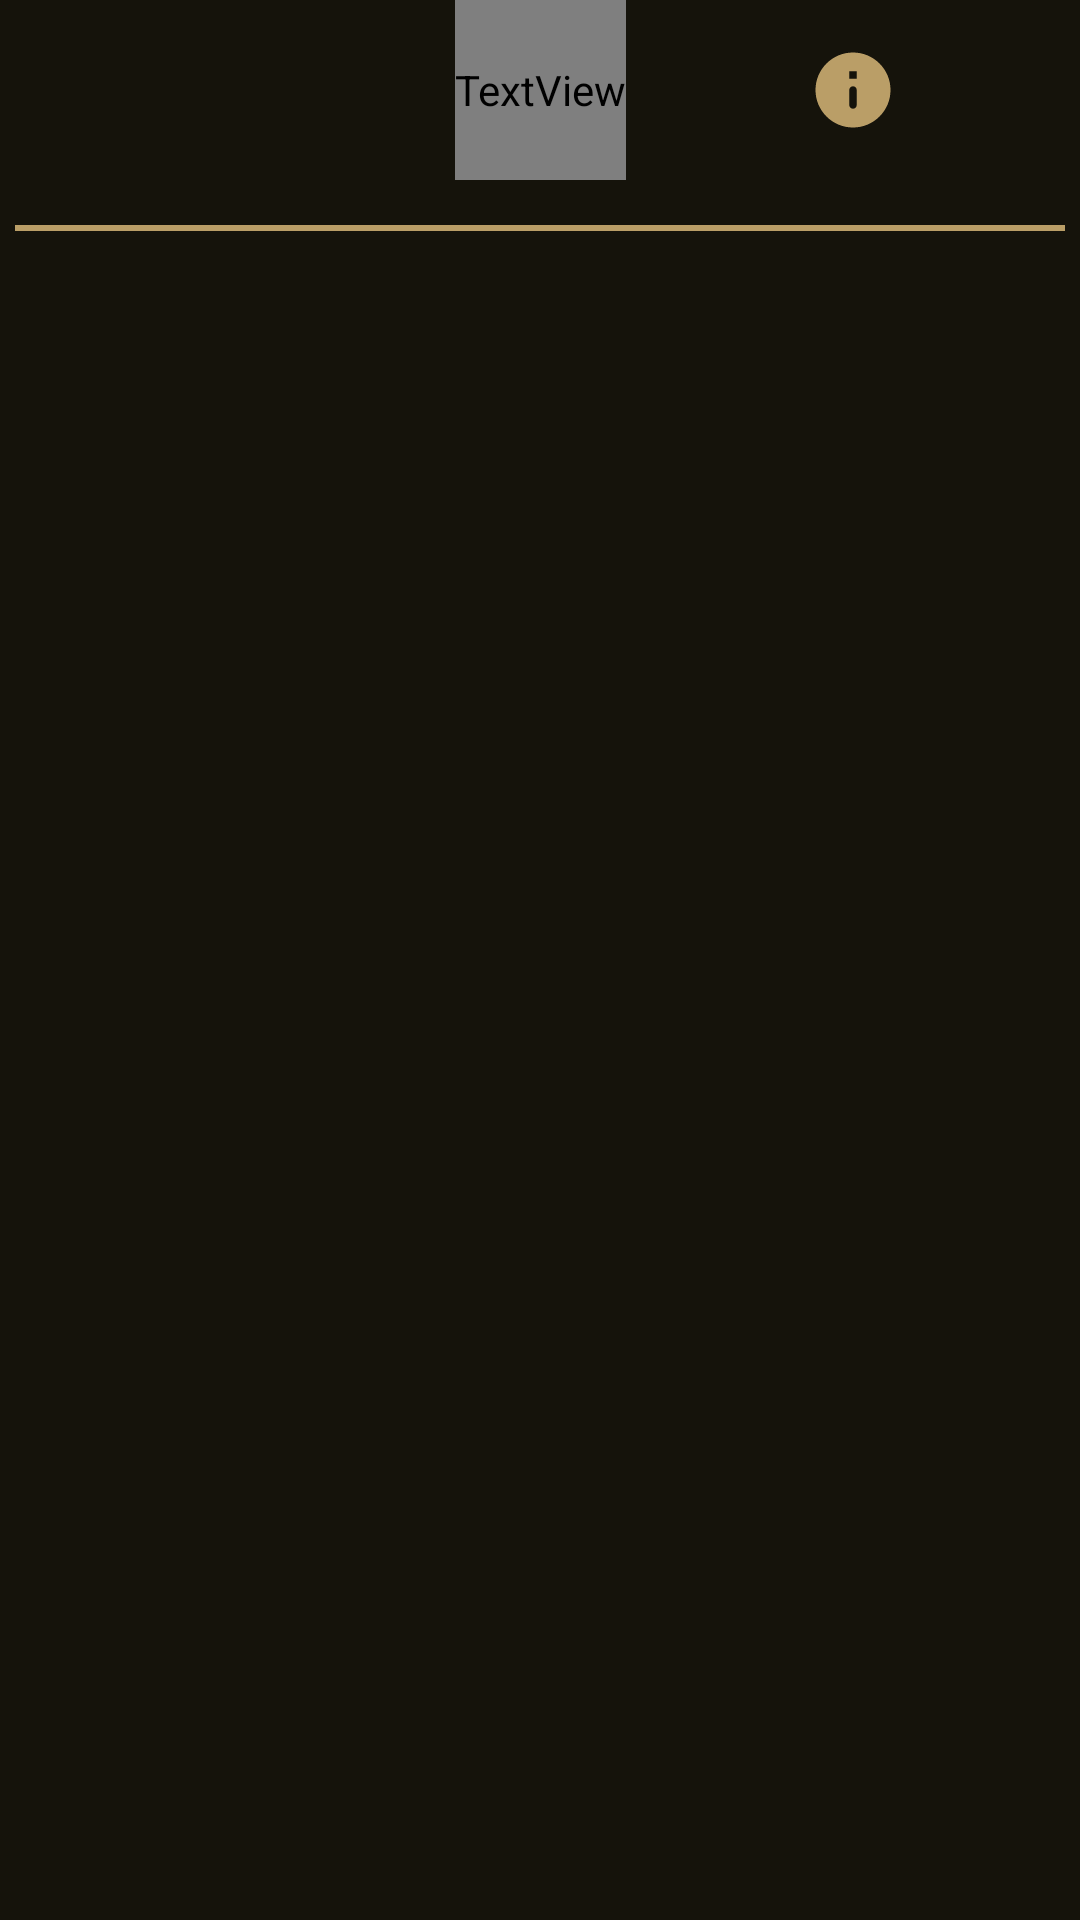

Named icons in this screenshot (1080*1920) and their centers, point (x, y):
info: point (853, 90)
